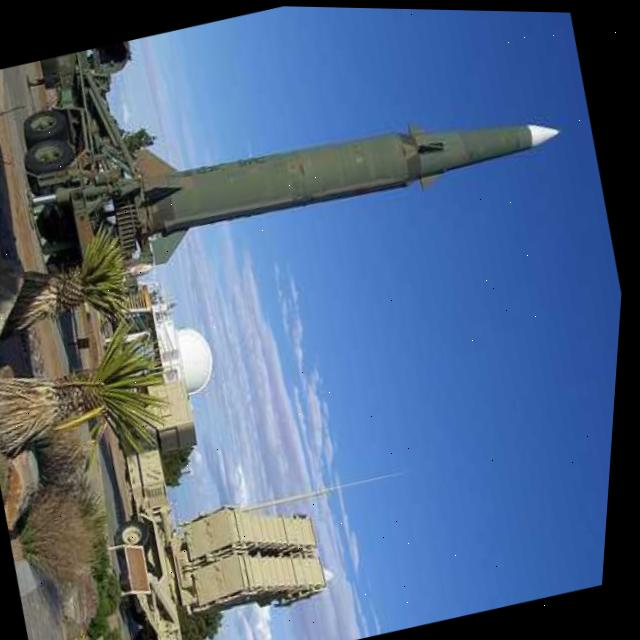missile: (88, 45, 573, 281)
